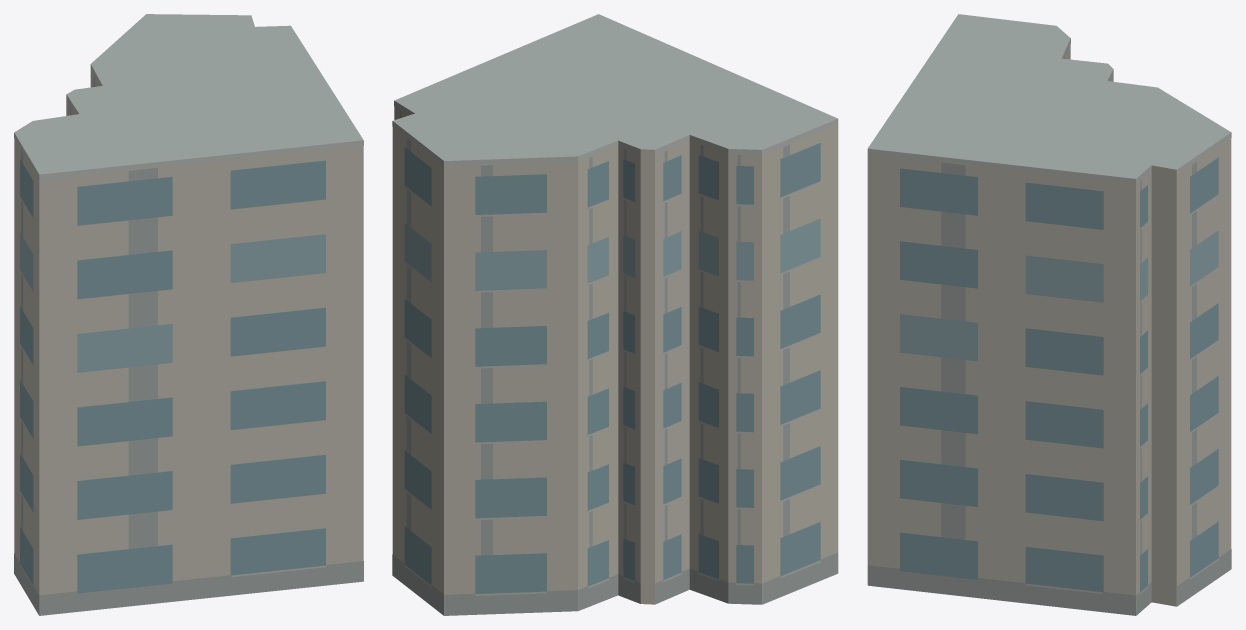
File: survey-upis-32915461.glb
3 views of the same model, side by side, from view 1: azimuth 30°, elevation 25°; view 2: azimuth 150°, elevation 25°; view 3: azimuth 270°, elevation 25° (orthographic). The views are drawn at different scales.
Parts seen in each view (by area): view 1: survey-upis-32915461.tmp; view 2: survey-upis-32915461.tmp; view 3: survey-upis-32915461.tmp.
Boxes of the visible parts, x1,y1,x2,y2 form: survey-upis-32915461.tmp: (14, 14, 363, 615); survey-upis-32915461.tmp: (392, 14, 838, 615); survey-upis-32915461.tmp: (867, 14, 1231, 615).
Bounding box in the file's own units: 15.14 × 18.7 × 14.12.
